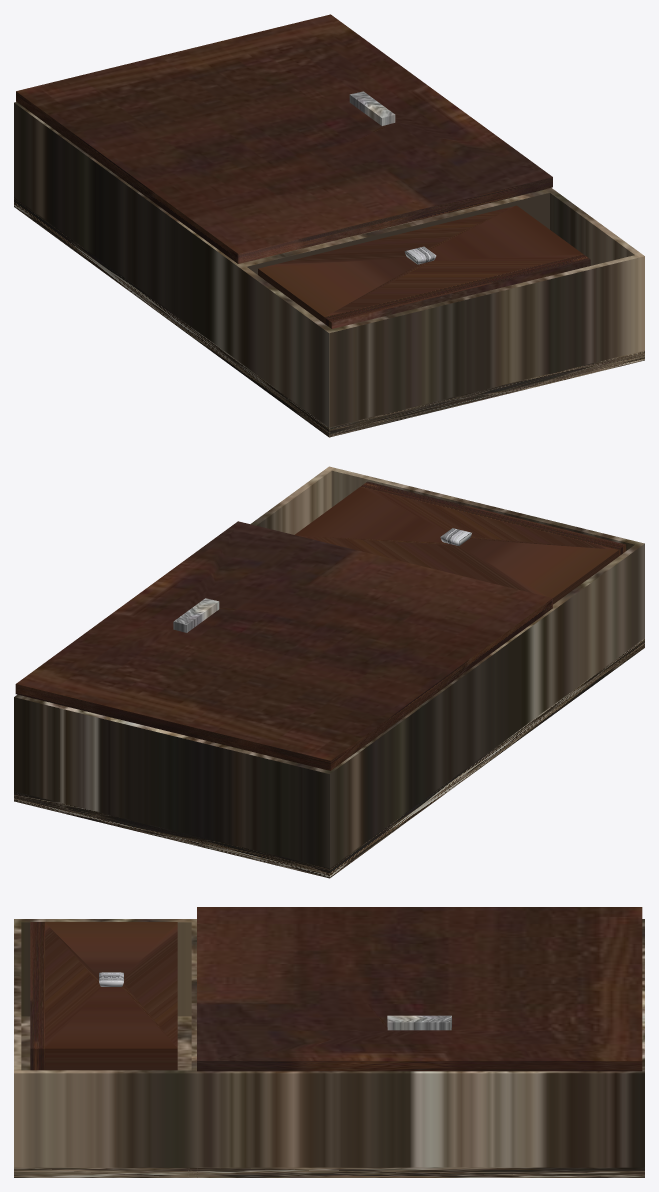
The model's file is Armario 1.fbx.
3 views of the same model, one above another, from view 1: azimuth 30°, elevation 25°; view 2: azimuth 150°, elevation 25°; view 3: azimuth 270°, elevation 25° (orthographic).
Visible parts, largest first — view 1: Cube.007, Cube.009, Cube.008; view 2: Cube.009, Cube.007, Cube.008; view 3: Cube.007, Cube.009, Cube.008.
Part boxes in pixels (box(x1,y1,x2,y2)): Cube.007: box(14, 102, 644, 437); Cube.009: box(16, 14, 552, 263); Cube.008: box(258, 205, 590, 328); Cube.009: box(15, 521, 552, 770); Cube.007: box(14, 466, 644, 878); Cube.008: box(295, 481, 626, 604); Cube.007: box(14, 919, 644, 1177); Cube.009: box(197, 907, 642, 1071); Cube.008: box(30, 922, 177, 1070).
Size of the model in its own units: 6.65 by 2.51 by 11.5.
3 materials, 3 textured.
